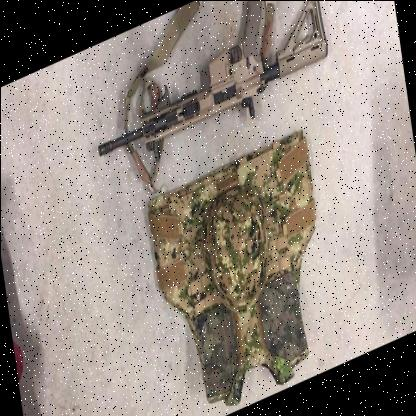rifle: (86, 0, 338, 176)
